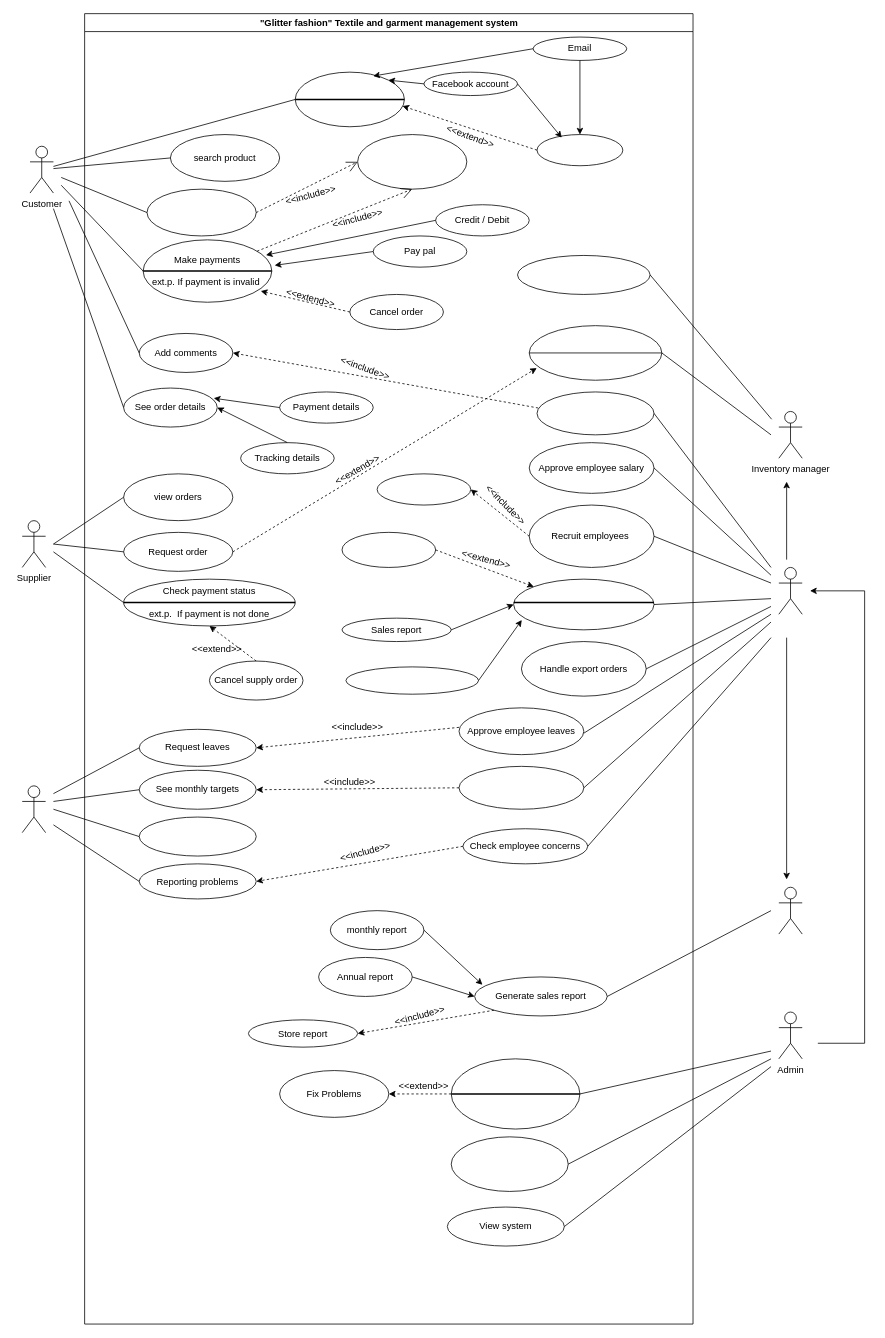
Some shapes in this 885 by 1338 pixel diagram are drawn without their labels. The centre of each missing label's shape, as x and y in pixels:
Accountant: the point at 790,910
Allocate monthly targets: the point at 521,787
check inventory ext.p. If materials are out of stock: the point at 595,352
Check reports ext.p. If reports has critical issues: the point at 583,604
Check the salary: the point at 197,836
Employee: the point at 33,809
Inform CEO: the point at 388,549
Log in ext.p. if not registered: the point at 349,99
Manage User Accounts: the point at 509,1163
Manager: the point at 790,590
Production progress report: the point at 412,680
Purchase product: the point at 201,212
Register: the point at 579,150
Update inventory: the point at 583,274
Update System Ext.P. If System has errors: the point at 515,1093
Validate CV: the point at 423,489
validate registeration: the point at 412,161
View customer comments: the point at 595,413
